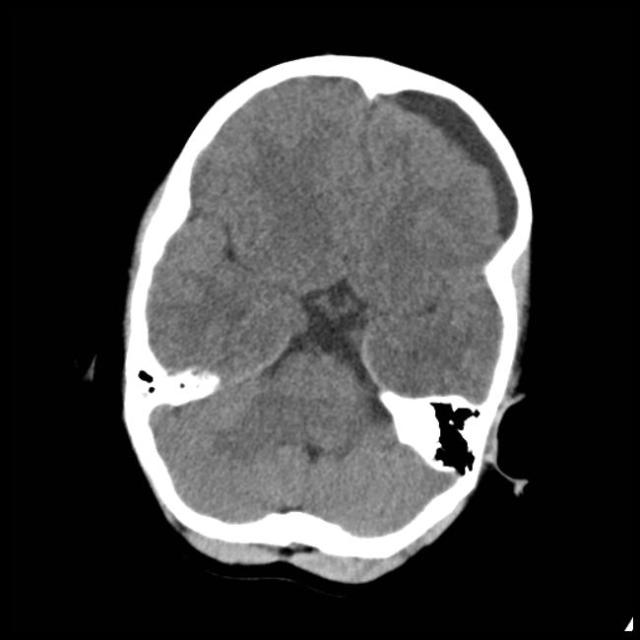lesion: (117, 54, 538, 584)
